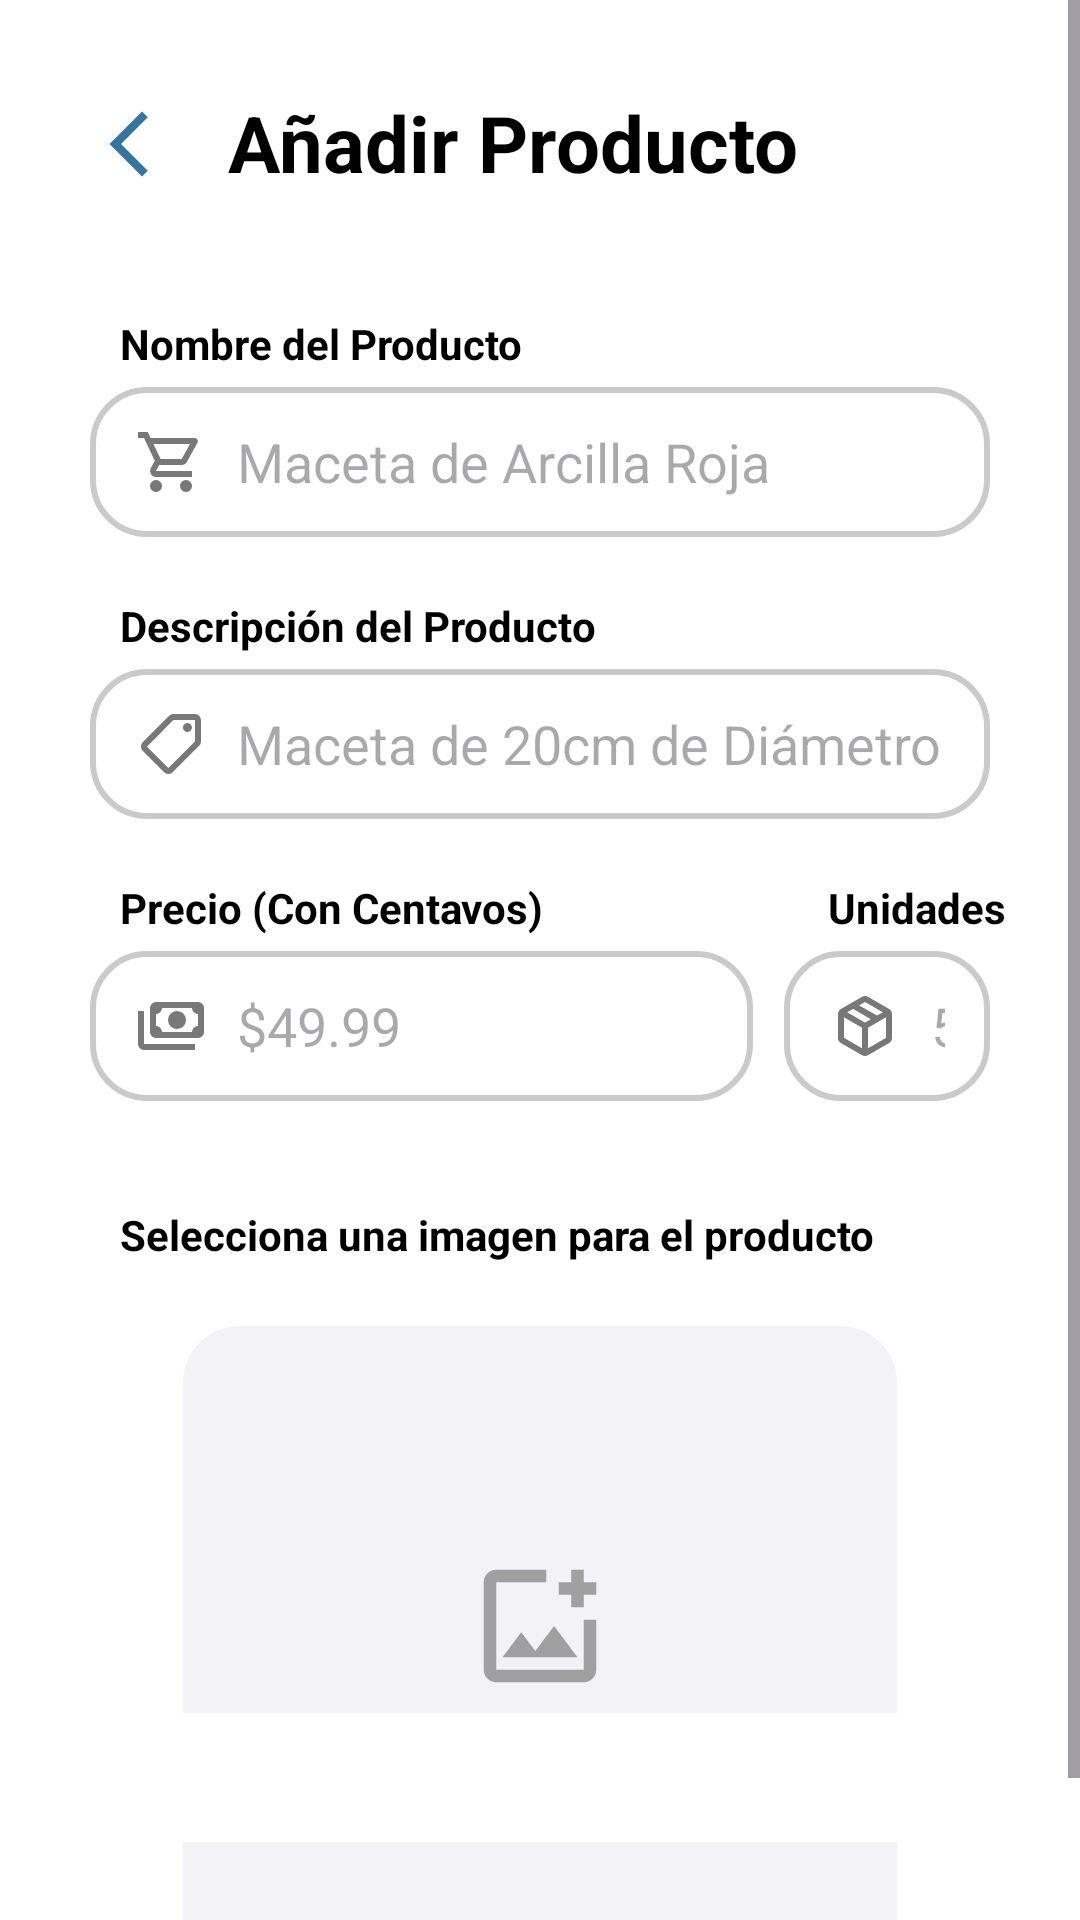

Icons on this 1080x1920 Android screen, each with its box as {"x1": x1, "y1": y1, "x2": x2, "y2": y2}:
add: {"x1": 484, "y1": 1570, "x2": 596, "y2": 1682}
back: {"x1": 110, "y1": 111, "x2": 148, "y2": 177}
